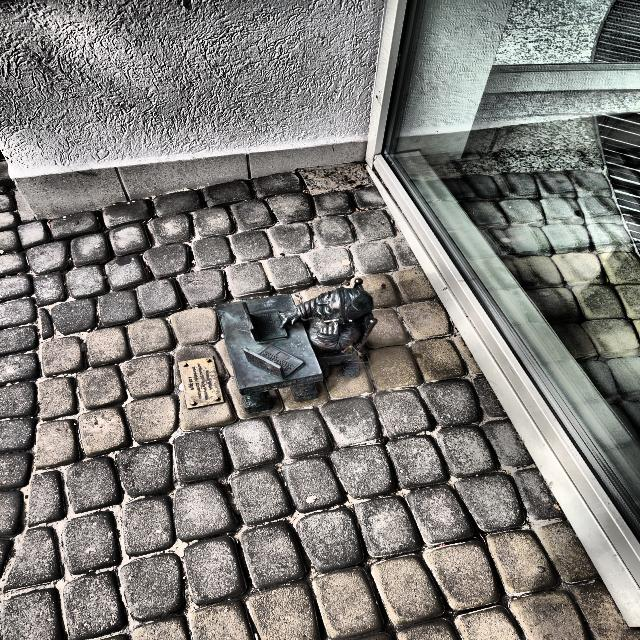WIZek: (217, 280, 377, 414)
